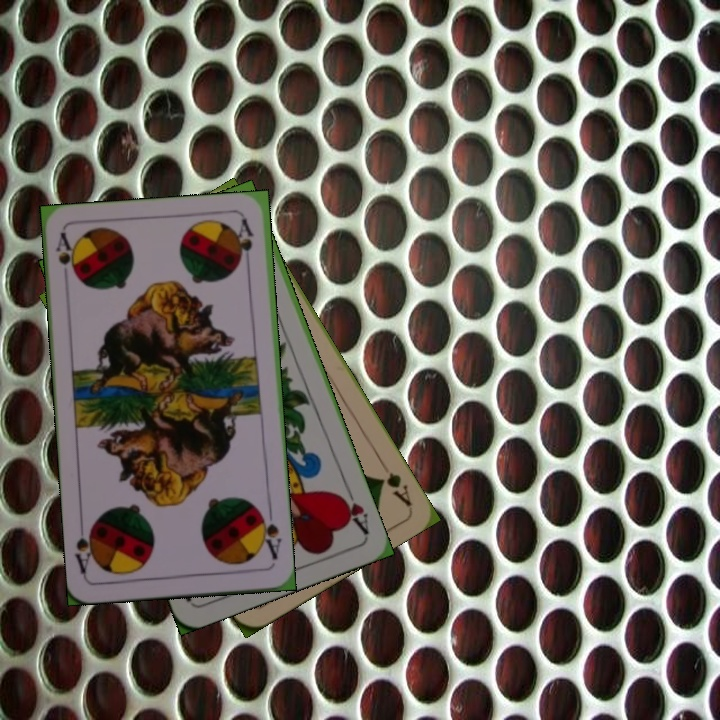GA: (375, 468, 414, 509)
HA: (334, 480, 372, 537)
SA: (255, 505, 284, 562), (51, 229, 79, 283)
